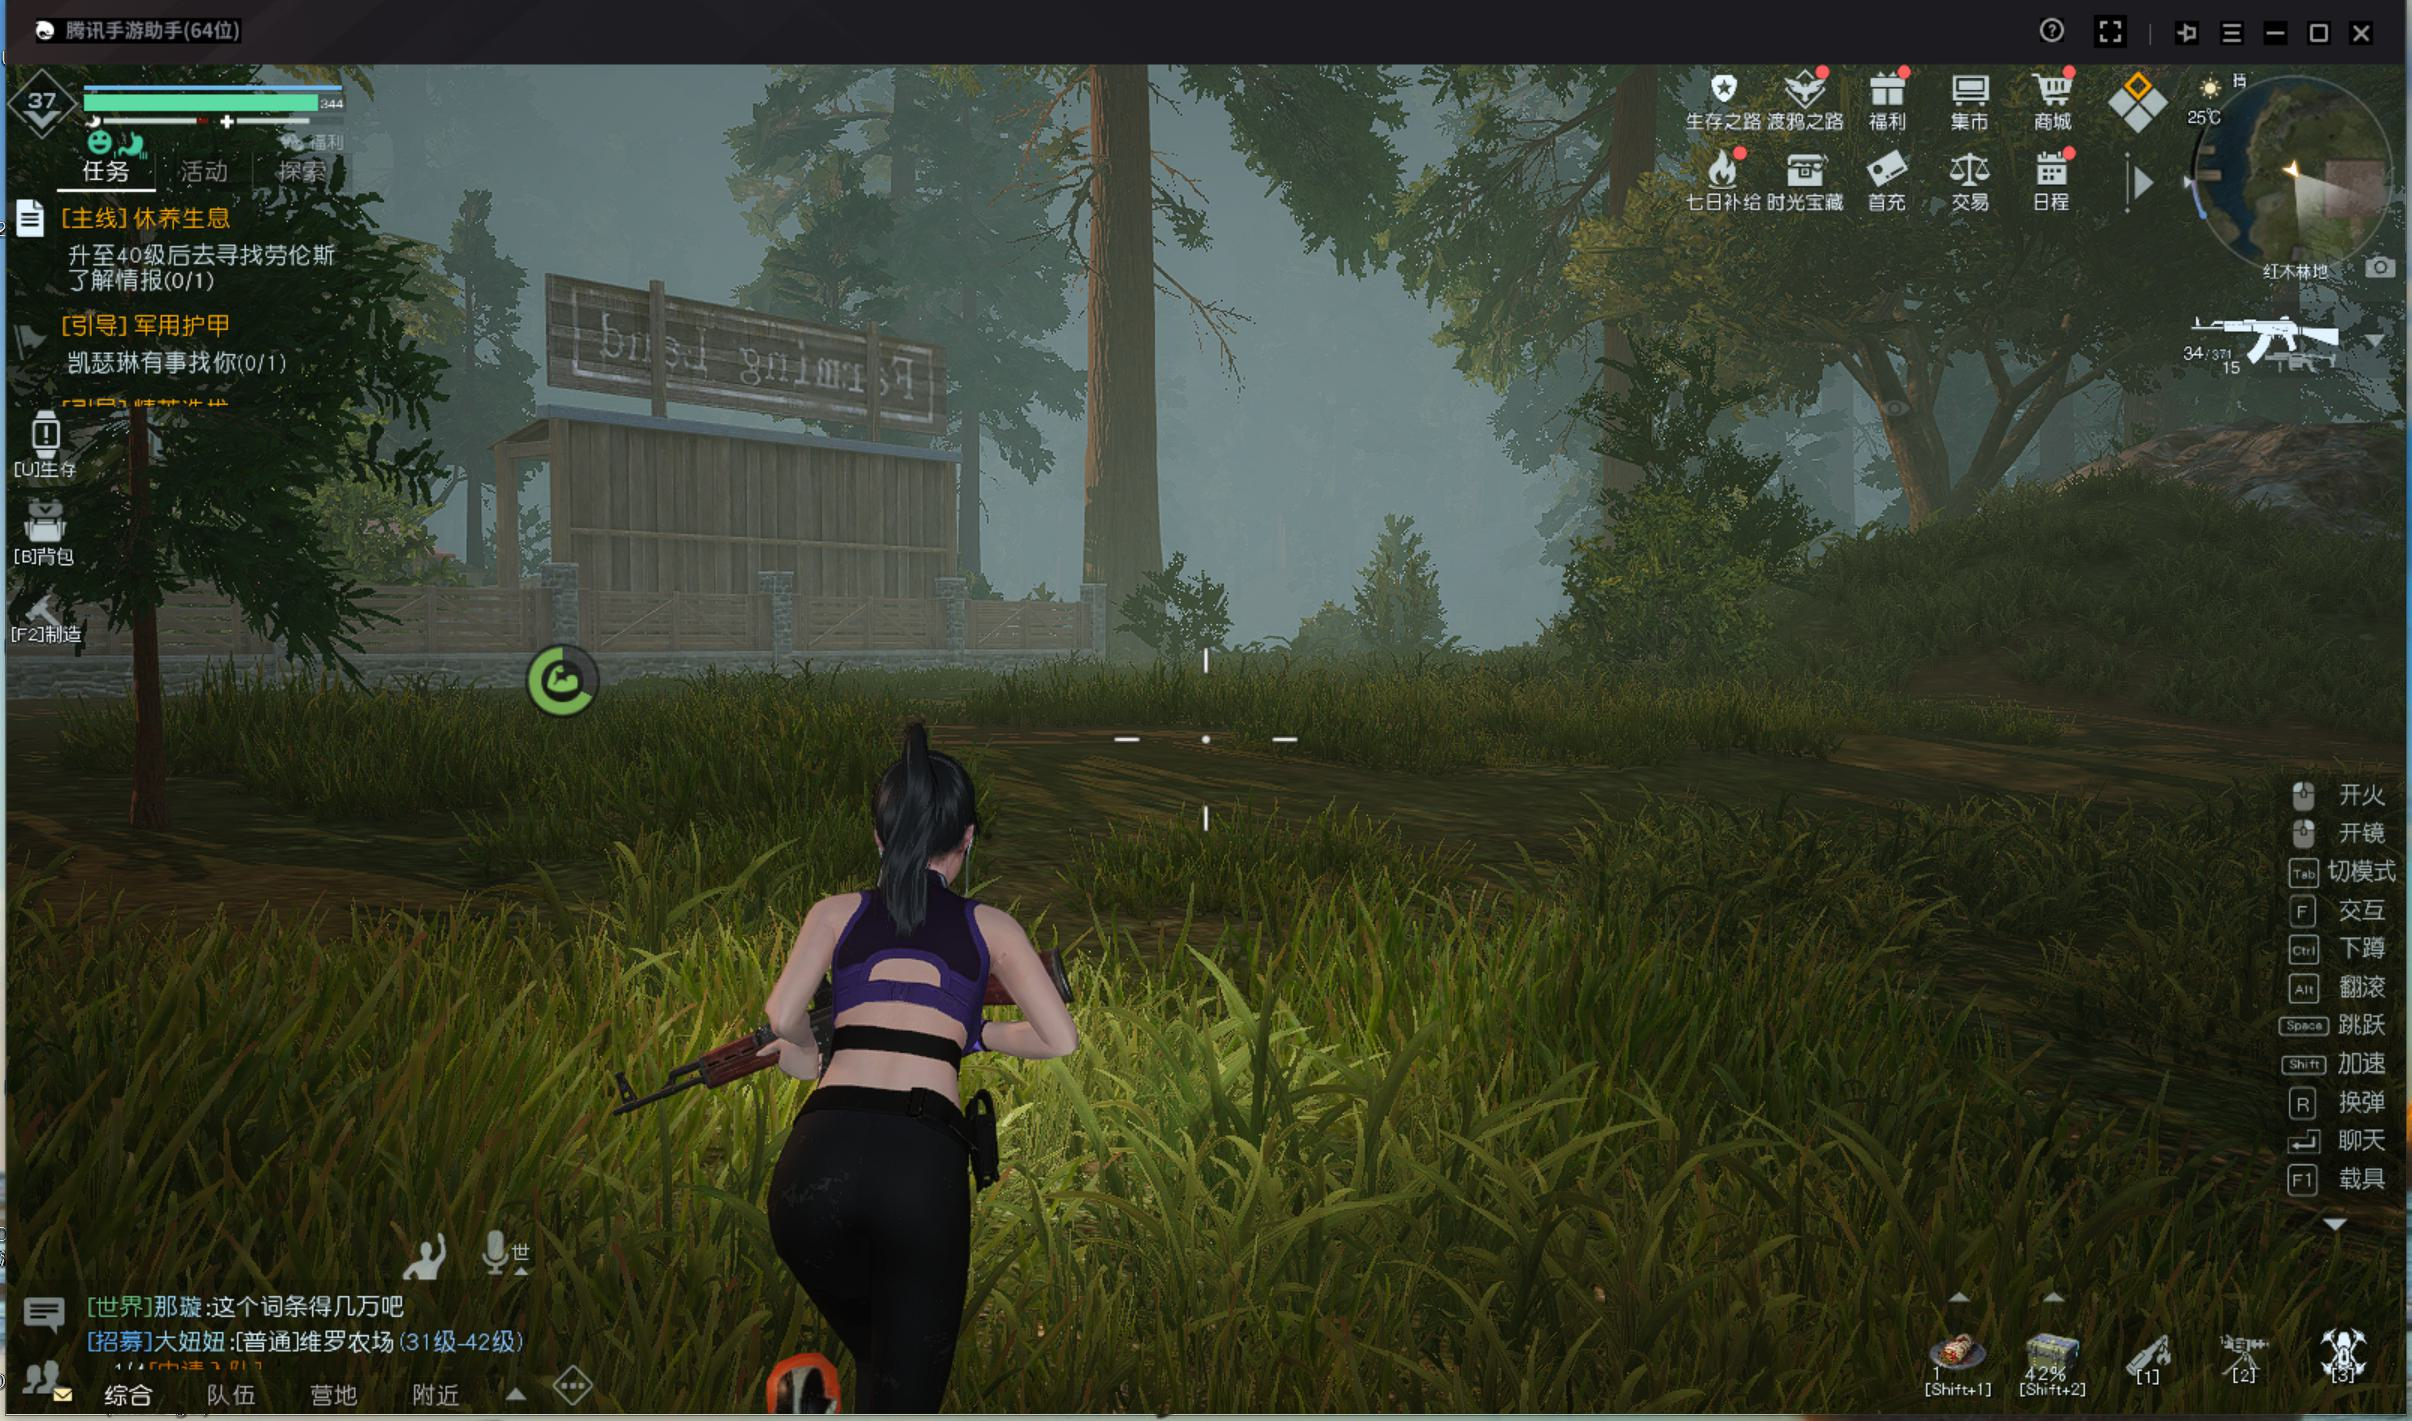tree: (1064, 105, 1172, 699), (1580, 157, 1661, 633)
